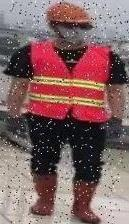boots: (67, 174, 106, 224), (25, 172, 57, 220)
gloves: (107, 116, 123, 139)
hard-hat: (46, 0, 94, 28)
vest: (27, 39, 113, 121)
